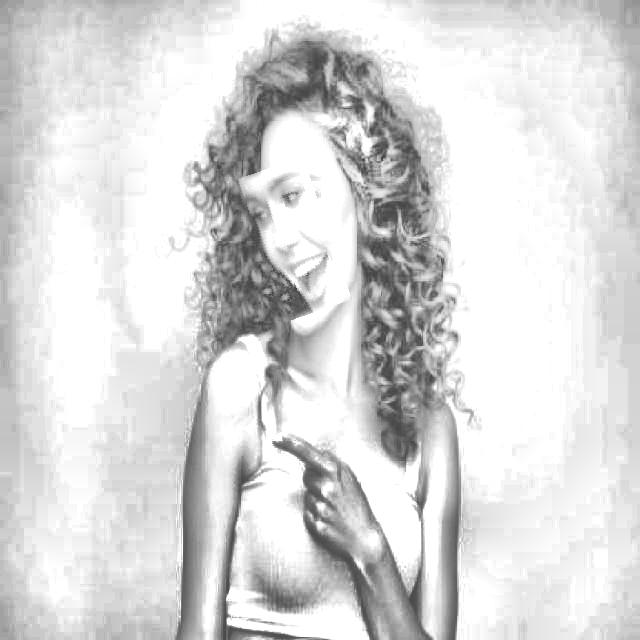happy: (247, 160, 341, 319)
